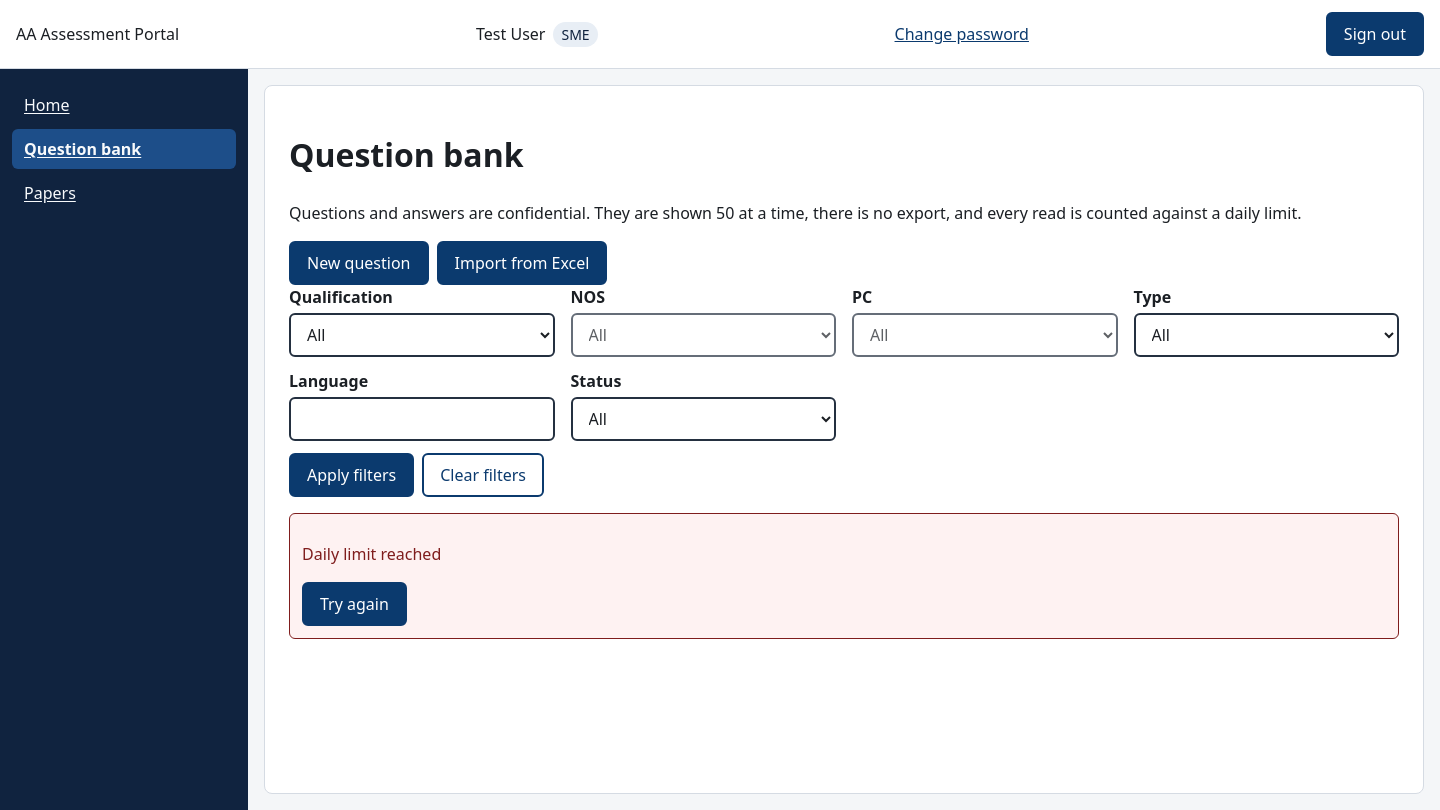
Test case: shows an error with a retry
Expected: the message shows "Daily limit reached", [302,543,441,565]
Click the button "Try again". click: (354, 604)
box: [302,582,407,626]
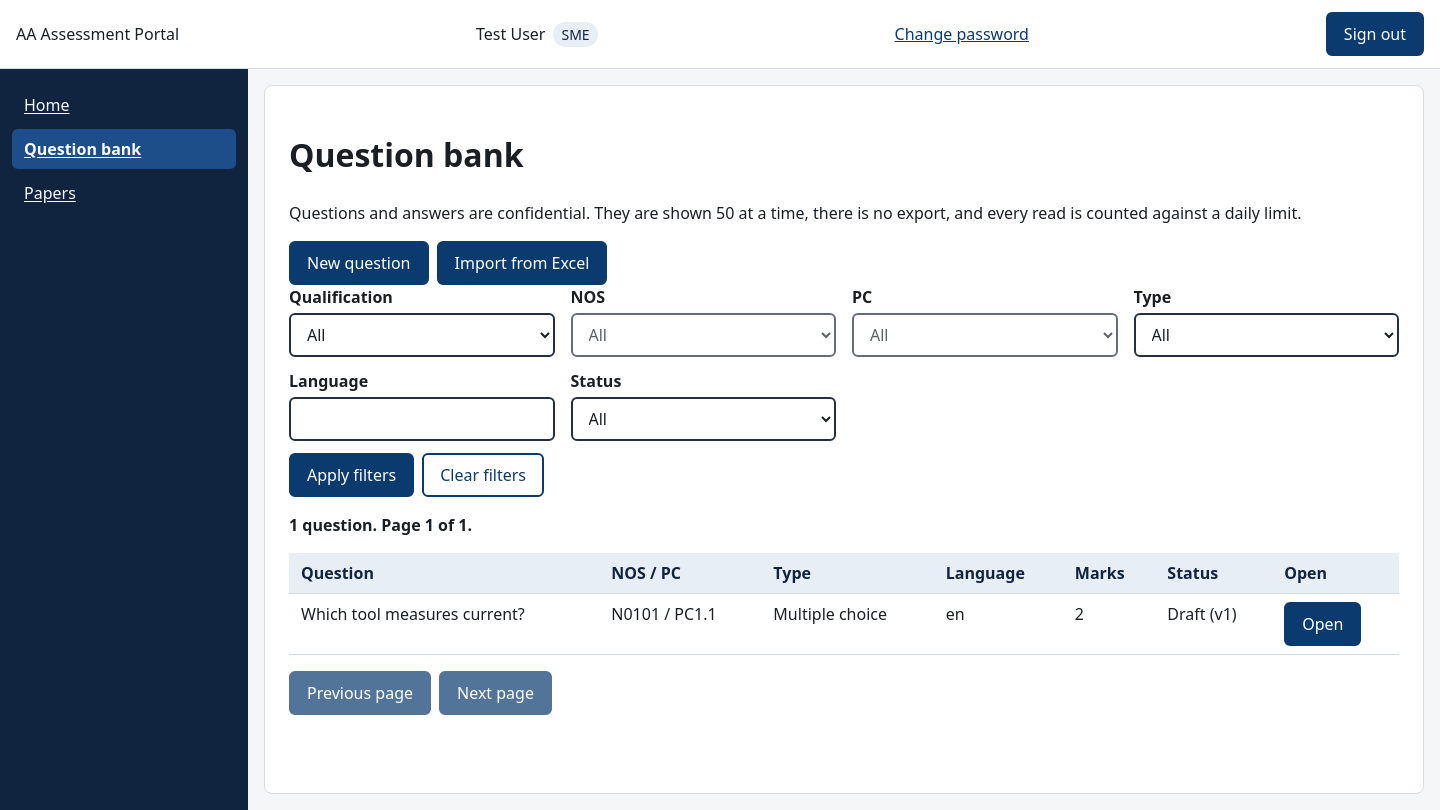
Now the text "Which tool measures current?" is shown, box [289,594,599,654]
